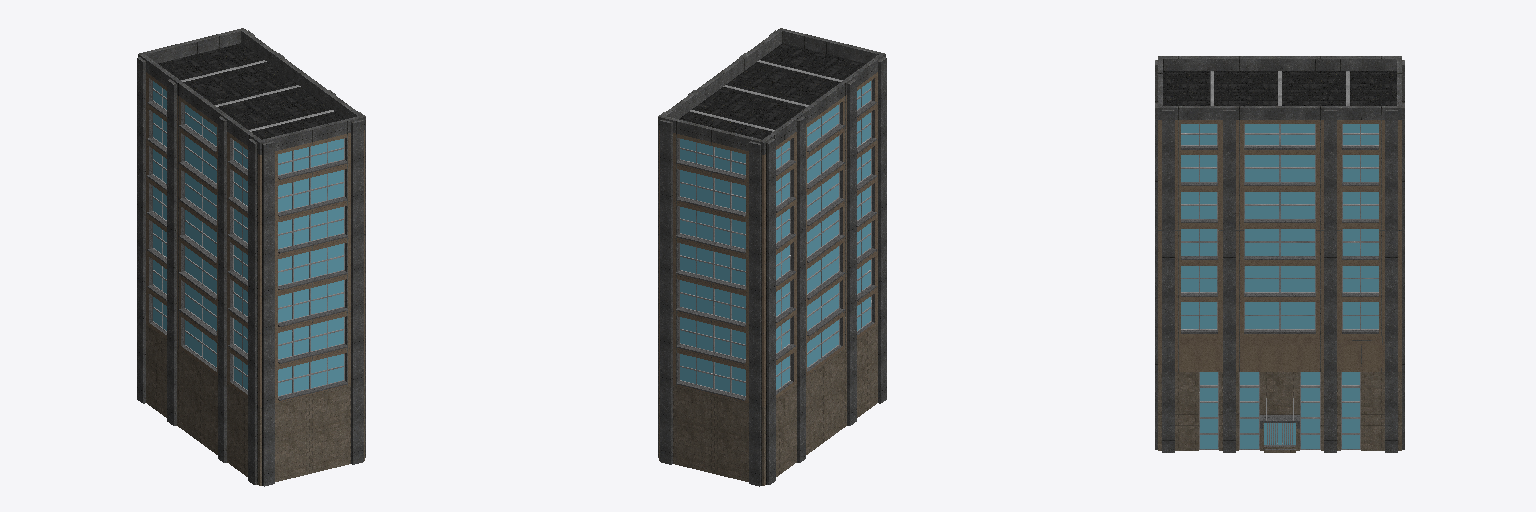
3 renders of one model, left to right at view 1: azimuth 30°, elevation 25°; view 2: azimuth 150°, elevation 25°; view 3: azimuth 270°, elevation 25°, orthographic.
Parts seen in each view (by area): view 1: Building_Medium_Residential2_Building_Medium_Residential2_Mesh; view 2: Building_Medium_Residential2_Building_Medium_Residential2_Mesh; view 3: Building_Medium_Residential2_Building_Medium_Residential2_Mesh.
Boxes of the visible parts, <box> form: Building_Medium_Residential2_Building_Medium_Residential2_Mesh: <box>137,28,365,486</box>; Building_Medium_Residential2_Building_Medium_Residential2_Mesh: <box>658,28,886,486</box>; Building_Medium_Residential2_Building_Medium_Residential2_Mesh: <box>1155,56,1404,452</box>.
Size of the model in its own units: 10.29 by 28 by 18.47.
Materials: 9 (7 with a texture image).